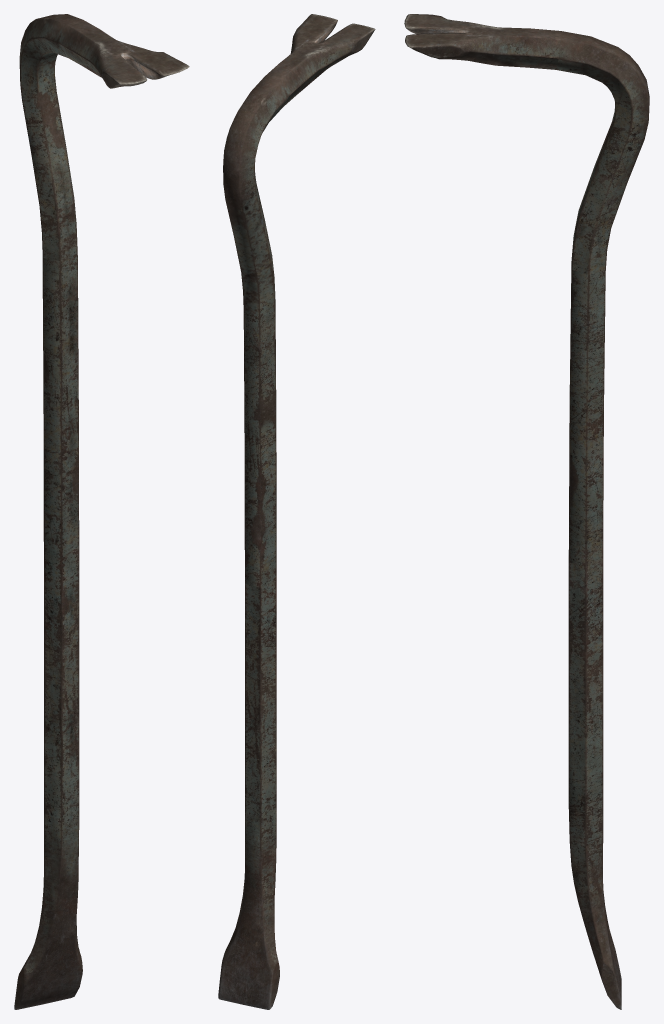
Rendered from crowbar_01.fbx.
3 views of the same model, side by side, from view 1: azimuth 30°, elevation 25°; view 2: azimuth 150°, elevation 25°; view 3: azimuth 270°, elevation 25° (orthographic). The views are drawn at different scales.
Parts seen in each view (by area): view 1: crowbar_01; view 2: crowbar_01; view 3: crowbar_01.
Boxes of the visible parts, bbox=[...] form: crowbar_01: bbox=[14, 14, 189, 1009]; crowbar_01: bbox=[218, 14, 375, 1009]; crowbar_01: bbox=[404, 14, 649, 1009].
Size of the model in its own units: 4.04 by 55.54 by 12.76.
1 material, 1 textured.
